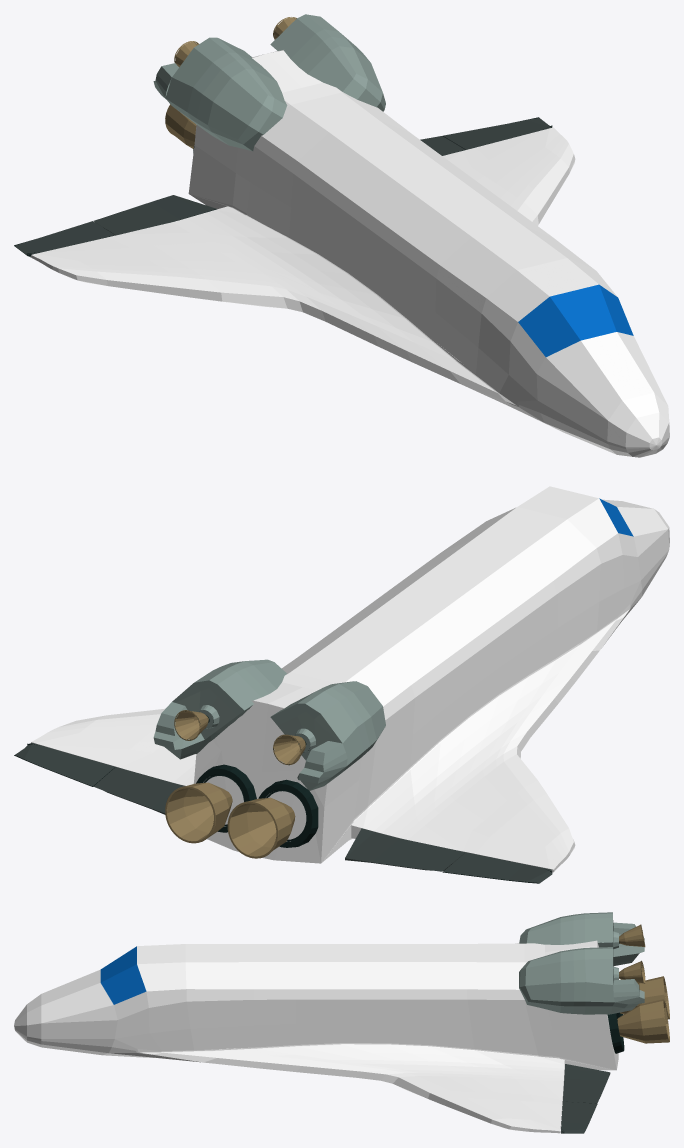
Rendered from Spaceship.fbx.
The picture shows the model from 3 angles, top to bottom: view 1: azimuth 30°, elevation 25°; view 2: azimuth 150°, elevation 25°; view 3: azimuth 270°, elevation 25°; orthographic projection. The views are drawn at different scales.
Visible parts, largest first — view 1: Spaceship; view 2: Spaceship; view 3: Spaceship.
Boxes of the visible parts, bbox=[...] form: Spaceship: bbox=[14, 14, 669, 457]; Spaceship: bbox=[14, 486, 669, 883]; Spaceship: bbox=[14, 912, 669, 1133].
Size of the model in its own units: 573 by 175 by 825.
Materials: 1 (1 with a texture image).
